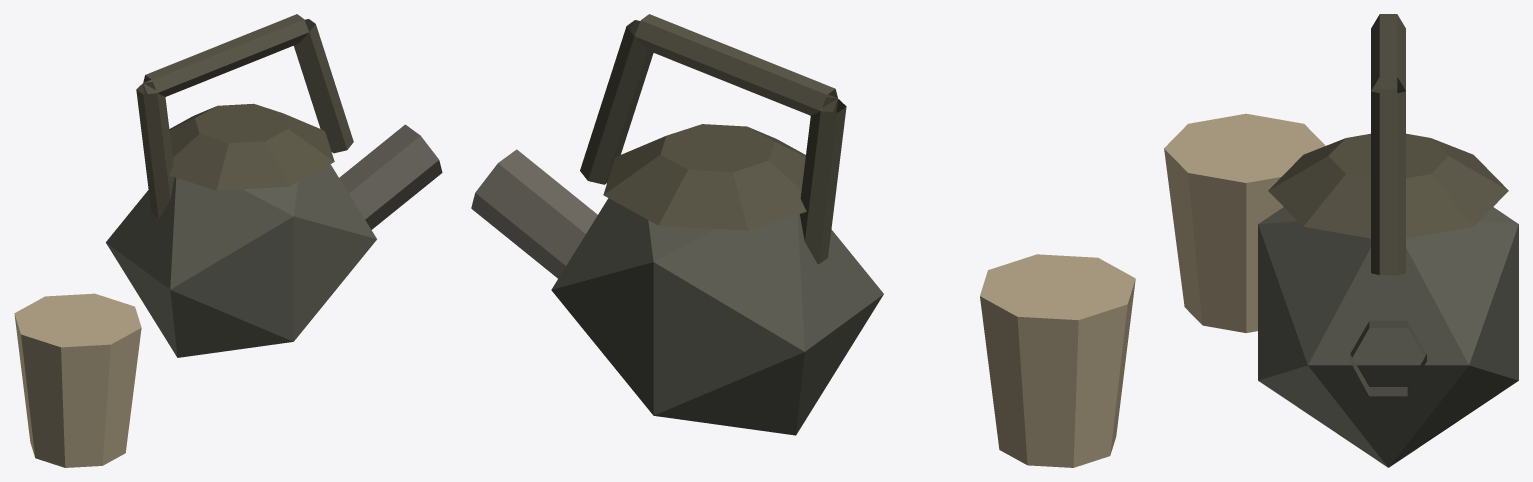
3 renders of one model, left to right at view 1: azimuth 30°, elevation 25°; view 2: azimuth 150°, elevation 25°; view 3: azimuth 270°, elevation 25°, orthographic. The views are drawn at different scales.
Visible parts, largest first — view 1: P06_茶壶与杯; view 2: P06_茶壶与杯; view 3: P06_茶壶与杯.
Part boxes in pixels (x1,y1,x2,y2): P06_茶壶与杯: [14, 14, 442, 467]; P06_茶壶与杯: [471, 14, 1135, 467]; P06_茶壶与杯: [1164, 14, 1518, 467].
Bounding box in the file's own units: 0.6194 × 0.4037 × 0.3241.
